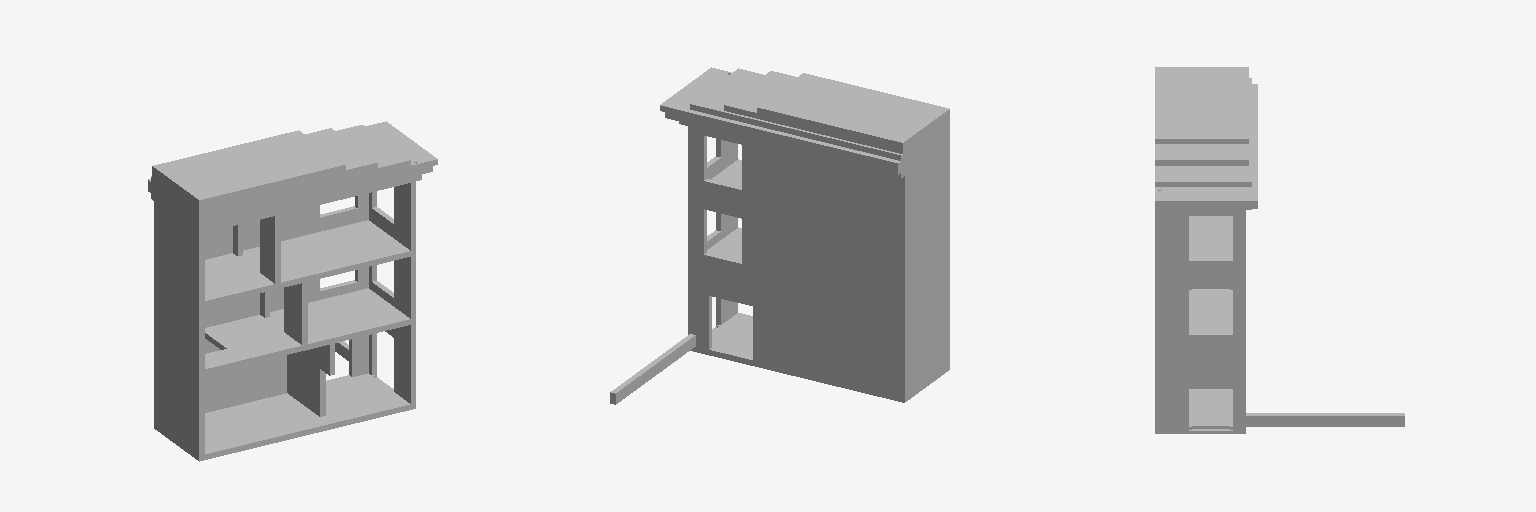
Rendered from immobiliare san marco1-0.obj.
3 renders of one model, left to right at view 1: azimuth 30°, elevation 25°; view 2: azimuth 150°, elevation 25°; view 3: azimuth 270°, elevation 25°, orthographic.
Visible parts, largest first — view 1: object 1; view 2: object 1; view 3: object 1.
Boxes of the visible parts, box(x1,y1,x2,y2) form: object 1: box(148, 121, 437, 461); object 1: box(610, 67, 949, 404); object 1: box(1155, 67, 1404, 433).
Size of the model in its own units: 8.8 by 9.2 by 8.